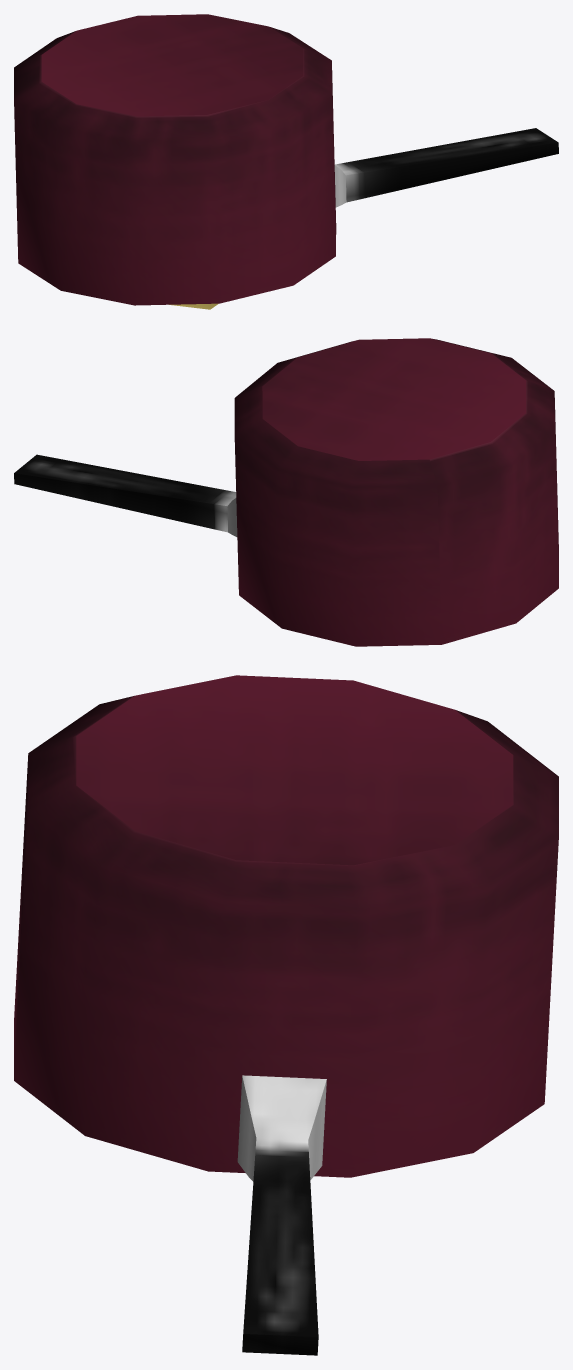
Rendered from SaucepanFoodHand.fbx.
The picture shows the model from 3 angles, top to bottom: view 1: azimuth 30°, elevation 25°; view 2: azimuth 150°, elevation 25°; view 3: azimuth 270°, elevation 25°; orthographic projection. The views are drawn at different scales.
Visible parts, largest first — view 1: SauceFoodHand; view 2: SauceFoodHand; view 3: SauceFoodHand.
Part boxes in pixels (x1,y1,x2,y2): SauceFoodHand: (14, 14, 558, 309); SauceFoodHand: (14, 338, 558, 646); SauceFoodHand: (14, 675, 558, 1355).
Bounding box in the file's own units: 60.76 × 25.29 × 33.76.
